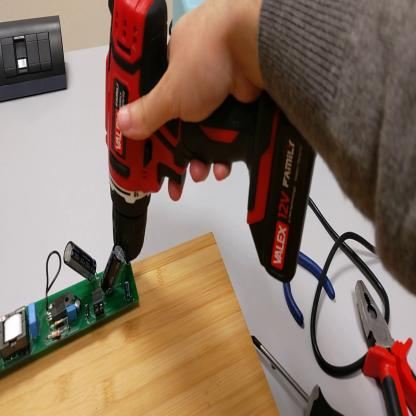electric screwdriver: (100, 2, 320, 287)
hand: (114, 5, 262, 199)
high voltage board: (2, 231, 139, 376)
pliers: (352, 278, 416, 416), (283, 245, 336, 328)
screwdriver-: (252, 332, 343, 416)
working area: (2, 232, 280, 416)
